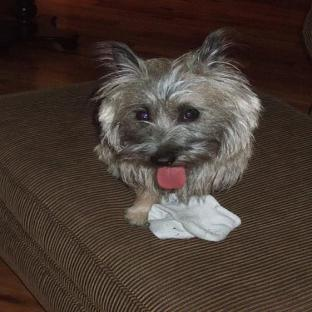Animal: (94, 29, 260, 225)
